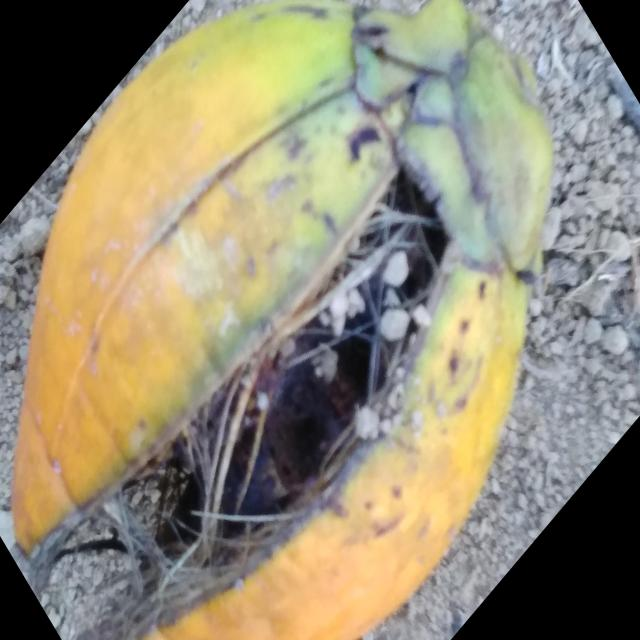damaged: (12, 0, 553, 640)
